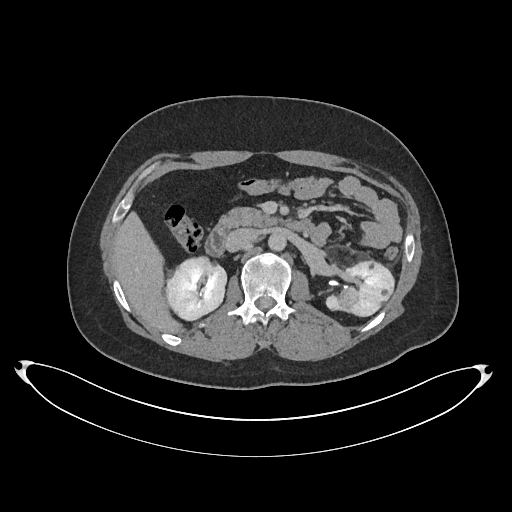Lesion: (334, 283, 362, 313)
